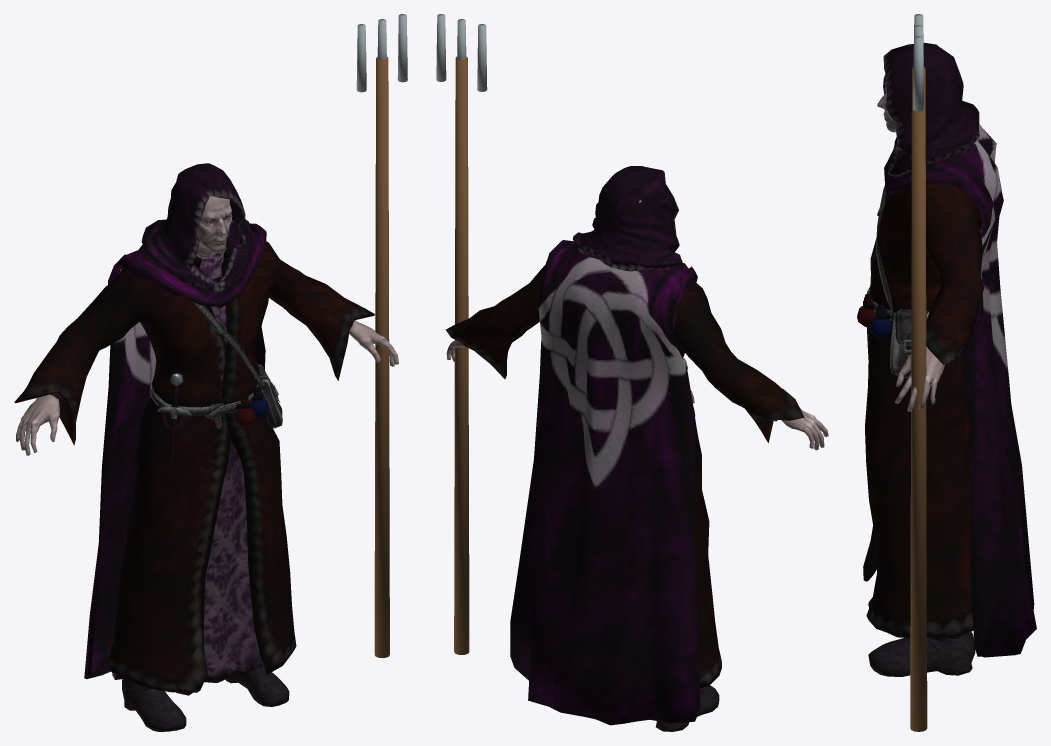
File: actor-peasant-mobile.glb
The picture shows the model from 3 angles, left to right: view 1: azimuth 30°, elevation 25°; view 2: azimuth 150°, elevation 25°; view 3: azimuth 270°, elevation 25°; orthographic projection. The views are drawn at different scales.
Visible parts, largest first — view 1: mage · posed; view 2: mage · posed; view 3: mage · posed.
Boxes of the visible parts, <box> form: mage · posed: <box>14,14,407,731</box>; mage · posed: <box>436,14,828,731</box>; mage · posed: <box>857,14,1036,731</box>.
Bounding box in the file's own units: 1.5 × 2.39 × 0.5488.
Materials: 3 (1 with a texture image).
